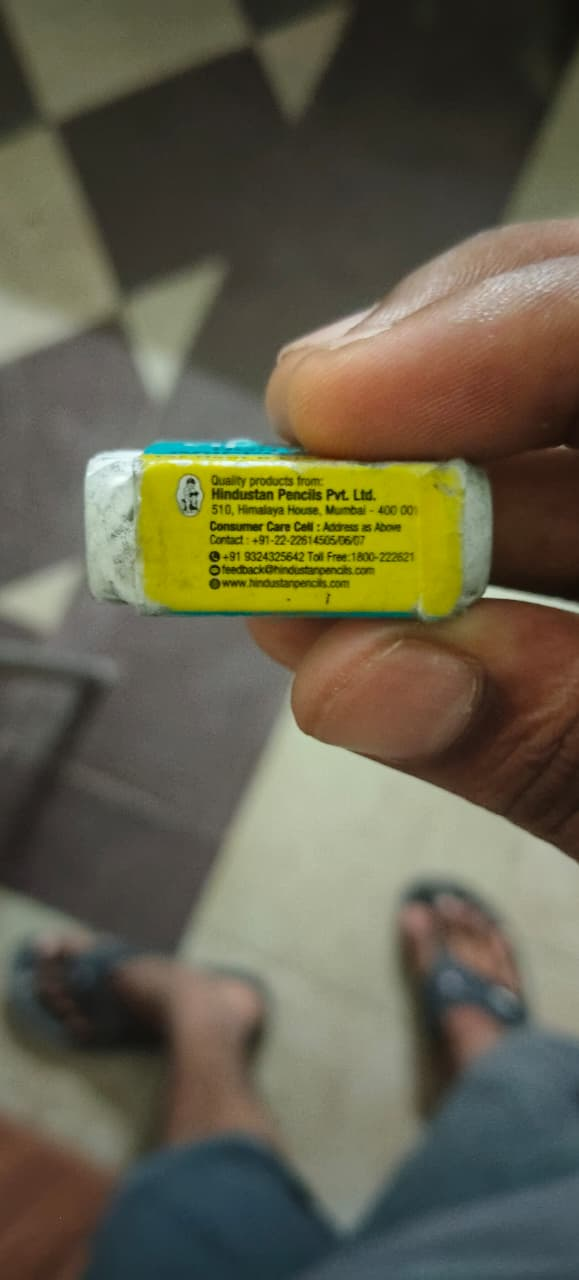brand_panel: (173, 470, 208, 521)
consumer_care: (208, 519, 405, 547)
manufacturer: (210, 486, 378, 503)
